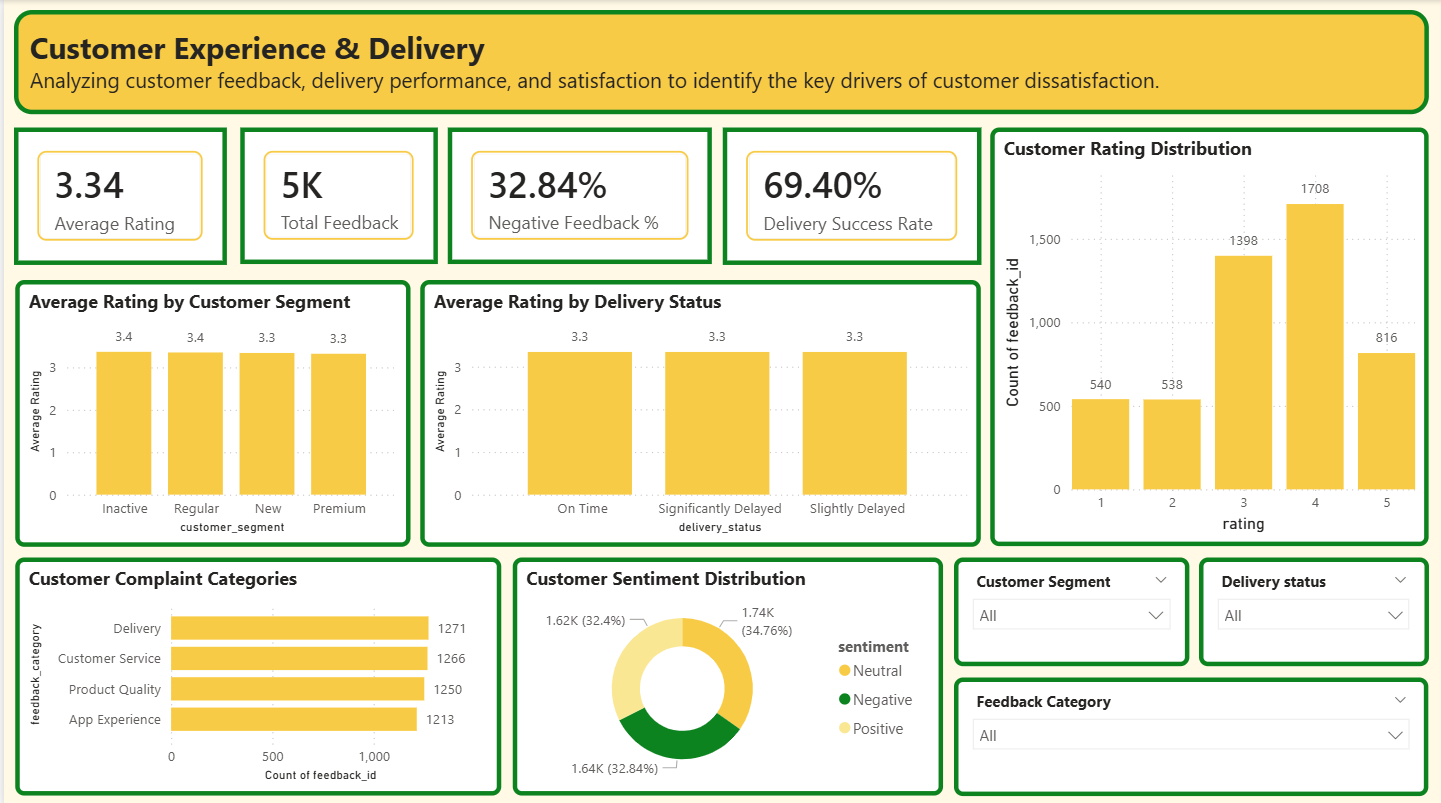

The dashboard page shown, as its layout file describes it:
{"tool":"powerbi","page":{"name":"Customer Experience & Delivery","canvas":[1280,720],"ordinal":1},"visuals":[{"type":"textbox","box":[9,9,1260.1,92.4],"z":0},{"type":"cardVisual","fields":{"Data":["blinkit_customer_feedback.Average Rating"]},"box":[9.3,114,189.5,122.1],"z":1000},{"type":"cardVisual","fields":{"Data":["blinkit_customer_feedback.Total Feedback"]},"box":[210.7,114,176,121.5],"z":2000},{"type":"cardVisual","fields":{"Data":["blinkit_customer_feedback.Delivery Success Rate"]},"box":[639.5,114,230.2,122.1],"z":3000},{"type":"cardVisual","fields":{"Data":["blinkit_customer_feedback.Negative Feedback %"]},"box":[395.4,114,235.5,121.5],"z":4000},{"type":"clusteredColumnChart","title":"Average Rating by Customer Segment","fields":{"Category":["blinkit_customers.customer_segment"],"Y":["blinkit_customer_feedback.Average Rating"]},"box":[9.9,249.1,352,238],"z":5000},{"type":"clusteredColumnChart","title":"Average Rating by Delivery Status","fields":{"Y":["blinkit_customer_feedback.Average Rating"],"Category":["blinkit_orders.delivery_status"]},"box":[370.6,249.1,499.5,238],"z":6000},{"type":"clusteredBarChart","title":"Customer Complaint Categories","fields":{"Category":["blinkit_customer_feedback.feedback_category"],"Y":["CountNonNull(blinkit_customer_feedback.feedback_id)"]},"box":[9.9,497,432.5,211.9],"z":7000},{"type":"clusteredColumnChart","title":"Customer Rating Distribution","fields":{"Category":["blinkit_customer_feedback.rating"],"Y":["CountNonNull(blinkit_customer_feedback.feedback_id)"]},"box":[878.7,114,390.4,373],"z":8000},{"type":"donutChart","title":"Customer Sentiment Distribution","fields":{"Y":["CountNonNull(blinkit_customer_feedback.feedback_id)"],"Category":["blinkit_customer_feedback.sentiment"]},"box":[453.6,497,383,211.9],"z":9000},{"type":"slicer","fields":{"Values":["blinkit_customers.customer_segment"]},"box":[846.5,497,209.5,96.7],"z":10000},{"type":"slicer","fields":{"Values":["blinkit_orders.delivery_status"]},"box":[1064.6,497,204.5,96.7],"z":11000},{"type":"slicer","fields":{"Values":["blinkit_customer_feedback.feedback_category"]},"box":[846.5,603.6,422.6,105.3],"z":12000}]}

Visuals, with their boxes in screenshot pixels (x1, y1, x2, y2), scaled from the page's 1280x720 canvas onto the 1441x803 screenshot:
textbox: BBox(10, 10, 1429, 113)
cardVisual - blinkit_customer_feedback.Average Rating: BBox(10, 127, 224, 263)
cardVisual - blinkit_customer_feedback.Total Feedback: BBox(237, 127, 435, 263)
cardVisual - blinkit_customer_feedback.Delivery Success Rate: BBox(720, 127, 979, 263)
cardVisual - blinkit_customer_feedback.Negative Feedback %: BBox(445, 127, 710, 263)
"Average Rating by Customer Segment" clusteredColumnChart: BBox(11, 278, 407, 543)
"Average Rating by Delivery Status" clusteredColumnChart: BBox(417, 278, 980, 543)
"Customer Complaint Categories" clusteredBarChart: BBox(11, 554, 498, 791)
"Customer Rating Distribution" clusteredColumnChart: BBox(989, 127, 1429, 543)
"Customer Sentiment Distribution" donutChart: BBox(511, 554, 942, 791)
slicer - blinkit_customers.customer_segment: BBox(953, 554, 1189, 662)
slicer - blinkit_orders.delivery_status: BBox(1199, 554, 1429, 662)
slicer - blinkit_customer_feedback.feedback_category: BBox(953, 673, 1429, 791)
